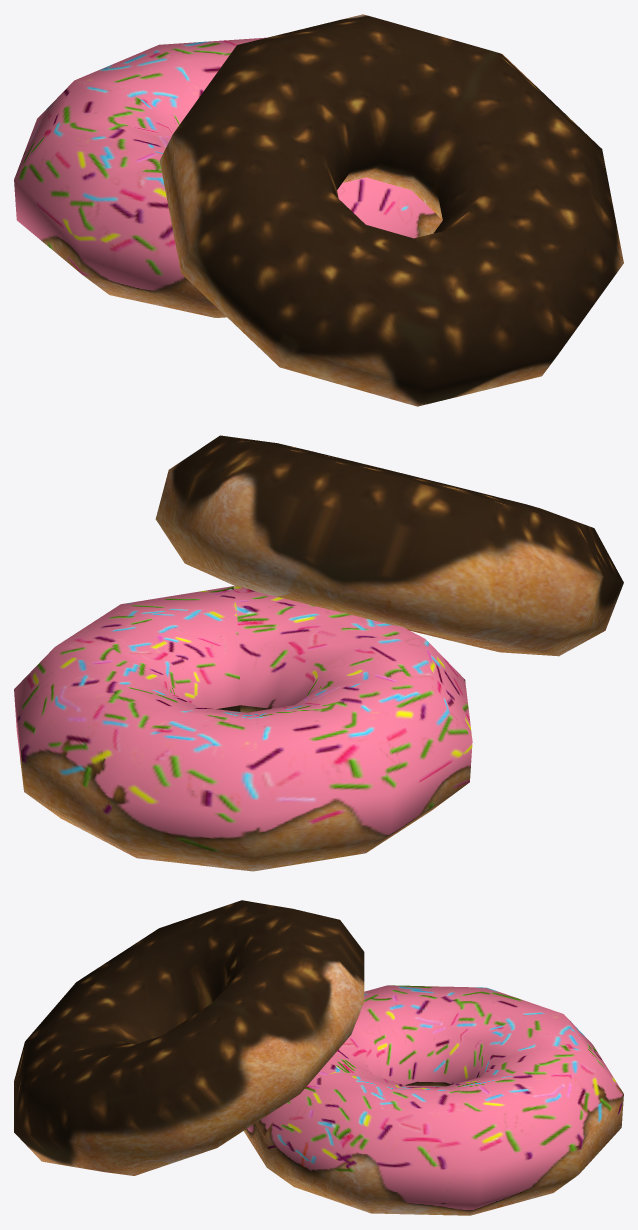
The model's file is donut (2).fbx.
3 views of the same model, one above another, from view 1: azimuth 30°, elevation 25°; view 2: azimuth 150°, elevation 25°; view 3: azimuth 270°, elevation 25° (orthographic). The views are drawn at different scales.
Parts seen in each view (by area): view 1: donut_donut; view 2: donut_donut; view 3: donut_donut.
Boxes of the visible parts, x1=… form: donut_donut: x1=14, y1=14, x2=623, y2=406; donut_donut: x1=14, y1=435, x2=623, y2=871; donut_donut: x1=14, y1=900, x2=623, y2=1215.
Size of the model in its own units: 5.6 by 3.61 by 8.74.
Materials: 1 (1 with a texture image).
